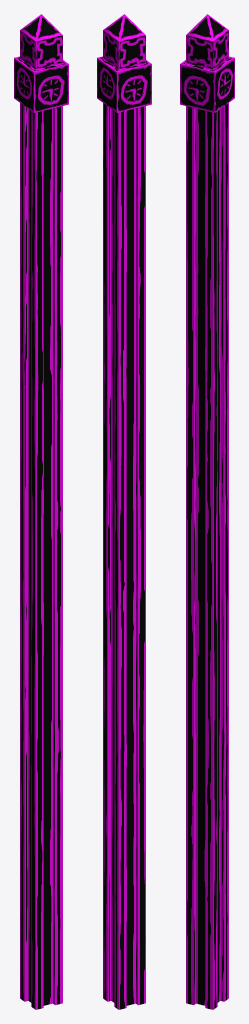
The model's file is clocktower.fbx.
3 views of the same model, side by side, from view 1: azimuth 30°, elevation 25°; view 2: azimuth 210°, elevation 25°; view 3: azimuth 330°, elevation 25° (orthographic).
Visible parts, largest first — view 1: pCube13; view 2: pCube13; view 3: pCube13.
Part boxes in pixels (x1,y1,x2,y2): pCube13: [14, 14, 68, 1009]; pCube13: [97, 14, 151, 1009]; pCube13: [180, 14, 234, 1009].
Bounding box in the file's own units: 9 × 244 × 9.
1 material, 1 textured.
